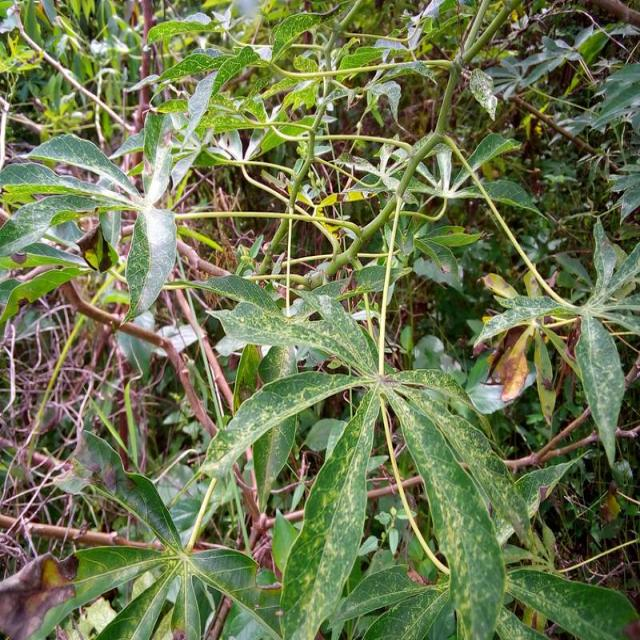cassava leaf: (0, 1, 638, 638), (277, 385, 381, 638)
